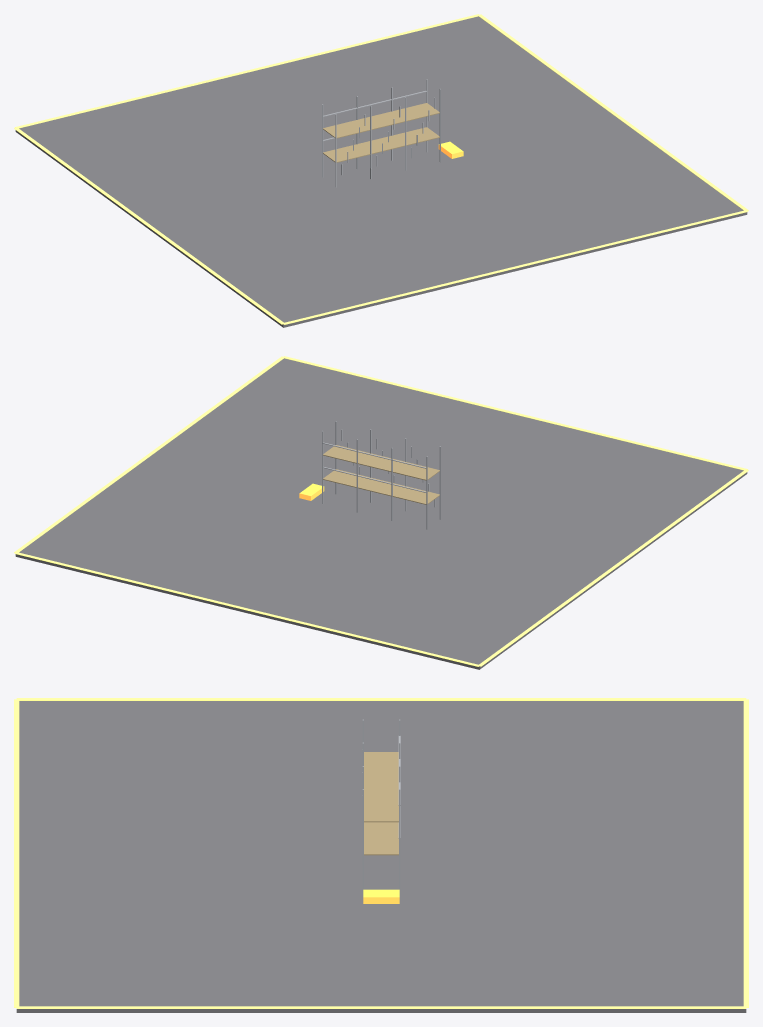
The model's file is sim-scaffold-bay.glb.
3 views of the same model, one above another, from view 1: azimuth 30°, elevation 25°; view 2: azimuth 150°, elevation 25°; view 3: azimuth 270°, elevation 25° (orthographic). The views are drawn at different scales.
Parts seen in each view (by area): view 1: Scaffold Bay Build; view 2: Scaffold Bay Build; view 3: Scaffold Bay Build.
Part boxes in pixels (<box>): Scaffold Bay Build: <box>14,14,748,327</box>; Scaffold Bay Build: <box>14,356,748,669</box>; Scaffold Bay Build: <box>14,698,748,1012</box>.
Bounding box in the file's own units: 40.3 × 6.3 × 40.3.
